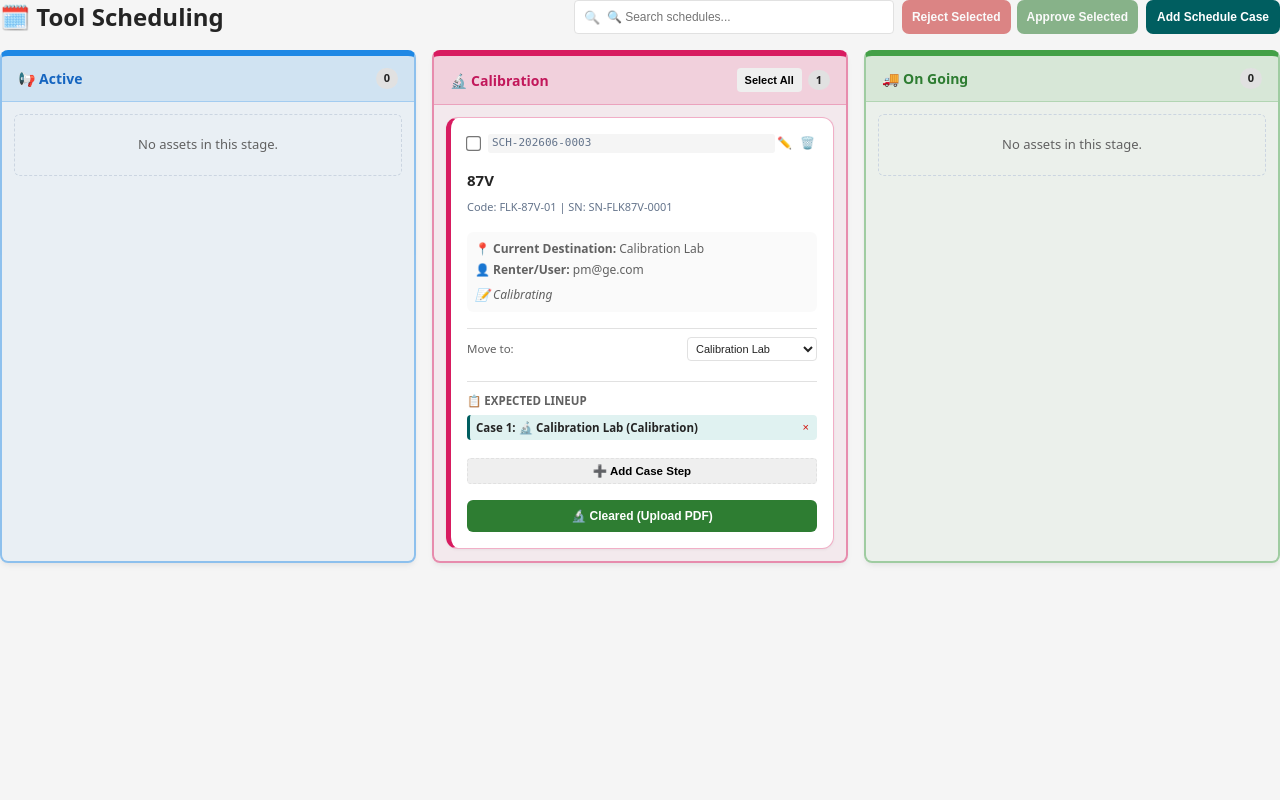
Test: SchedulingTab Component › renders handover fields when a calibration step status is changed to Completed (to be cleared) in edit modal
Expected: the text "SCH-202606-0003" is shown, x1=488 y1=134 x2=775 y2=152
Click the button titled "Edit".
click(785, 143)  # box x1=775 y1=134 x2=794 y2=152
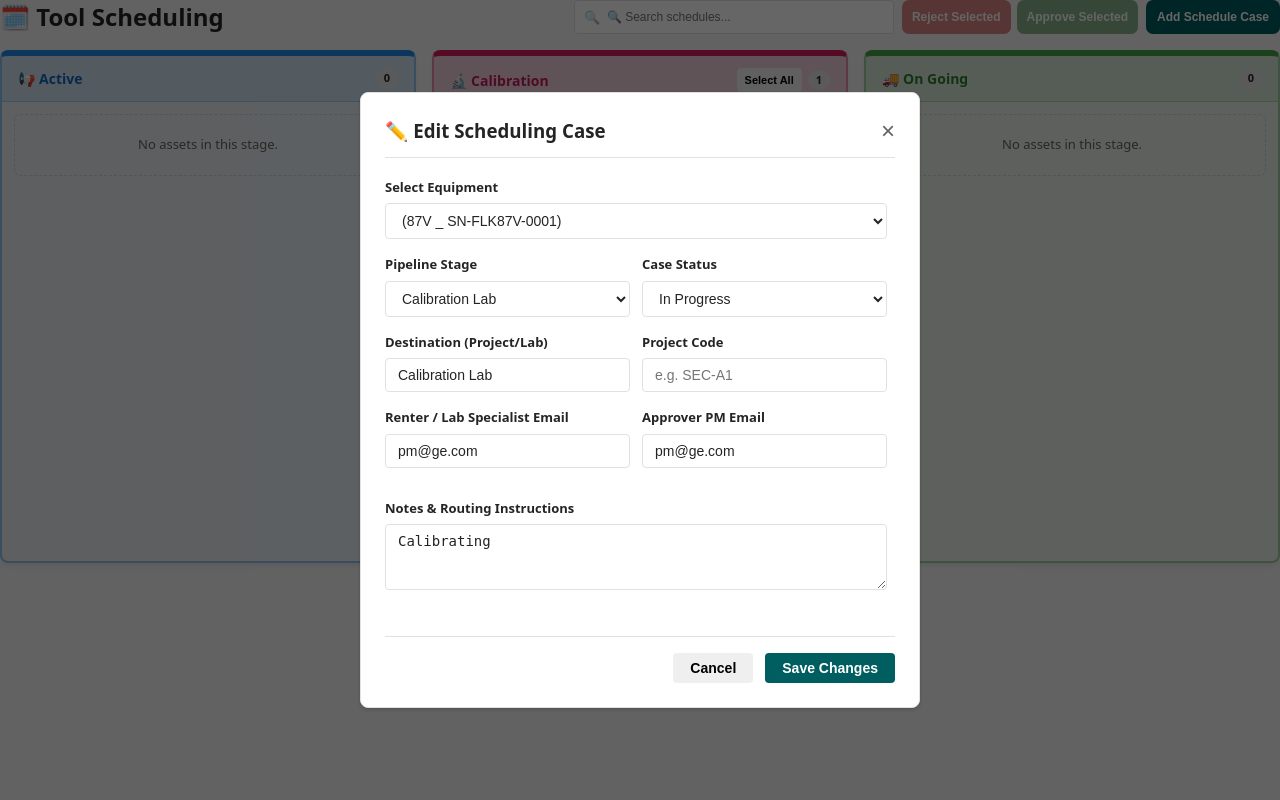
Expected: the text "Handover Record Required Fields" is not shown
Select "Completed" in the dropdown below "Case Status" at (764, 299), box x1=642 y1=281 x2=887 y2=317
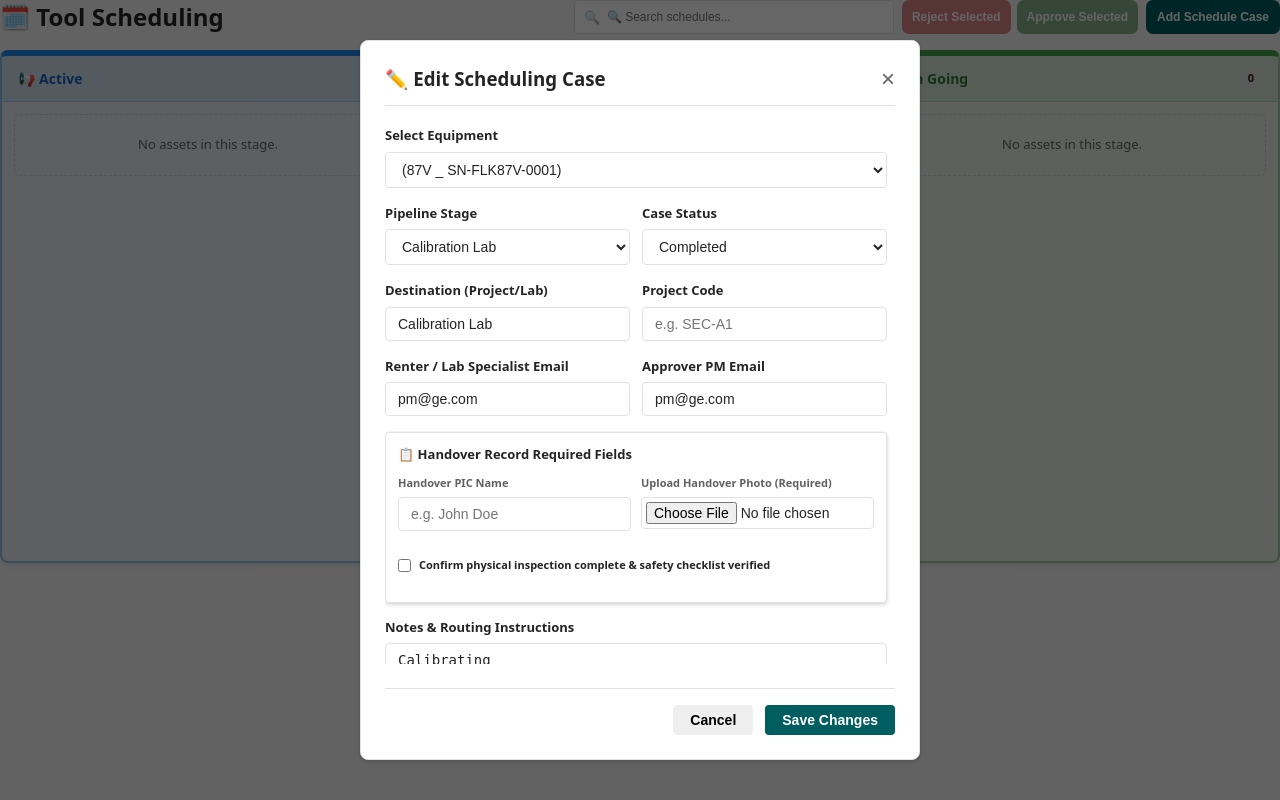
Now the heading "📋 Handover Record Required Fields" is shown, box x1=398 y1=445 x2=632 y2=463
Now the text "Handover PIC Name" is shown, box x1=398 y1=475 x2=508 y2=490
Now the text "Upload Handover Photo (Required)" is shown, box x1=641 y1=475 x2=832 y2=490
